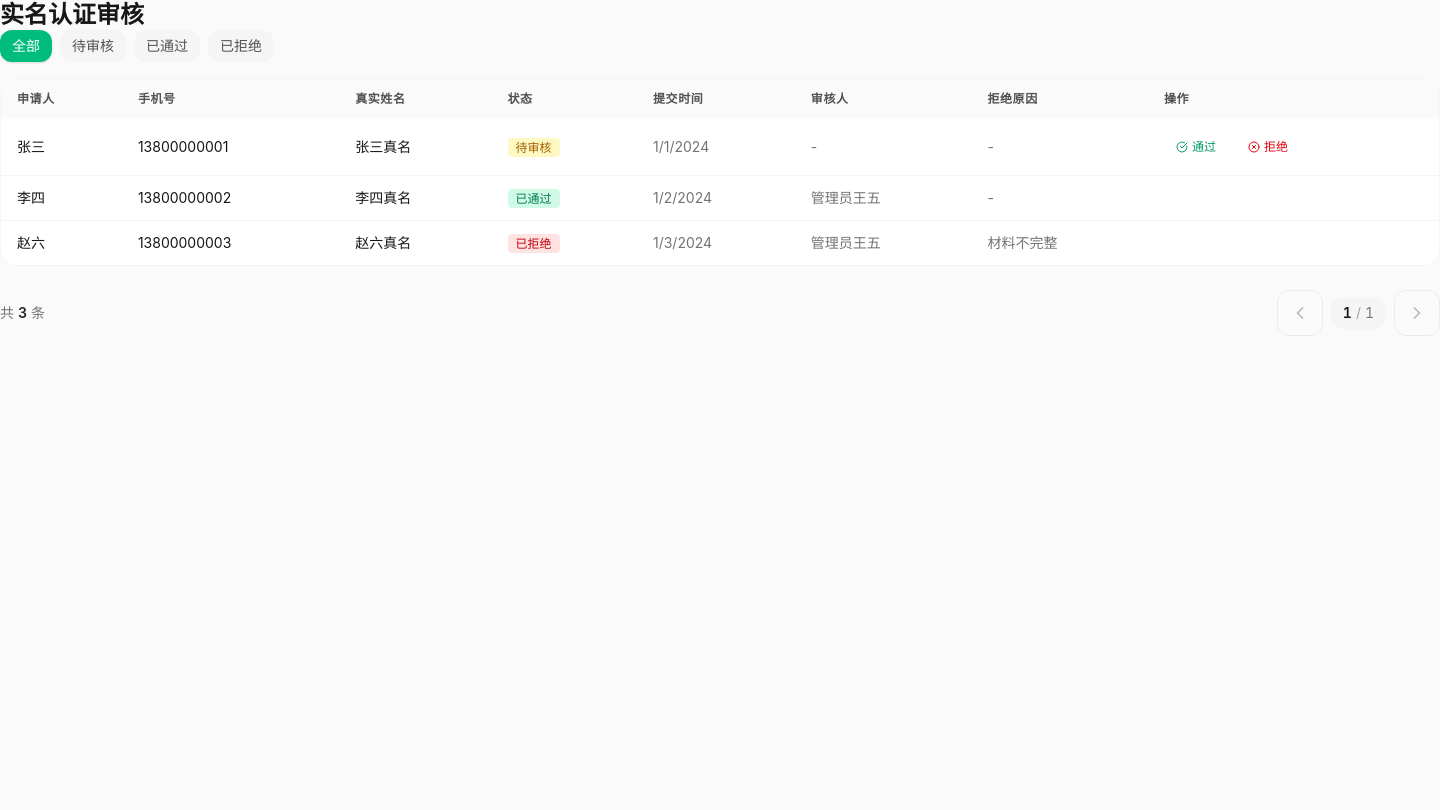
Scenario: VerificationReview 实名认证审核 › 点击"通过"打开弹窗显示申请人真实姓名
// 取第一个"通过"按钮（桌面表格内）
Click the button "通过" at (1196, 147), box [1164, 131, 1228, 163]
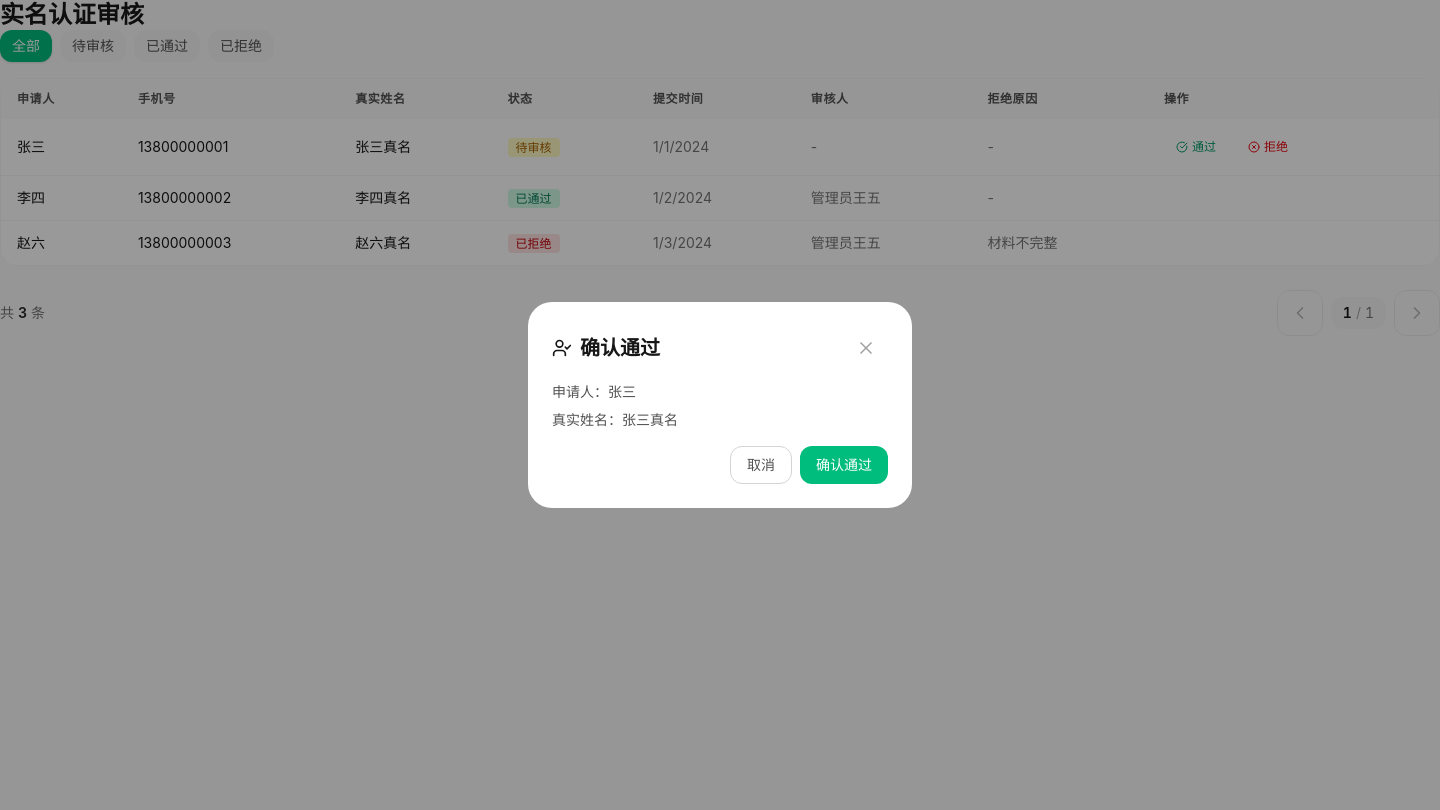
Expected: the text "张三" is shown, [1, 119, 122, 176]
Expected: the heading "确认通过" is shown, [552, 336, 660, 360]
